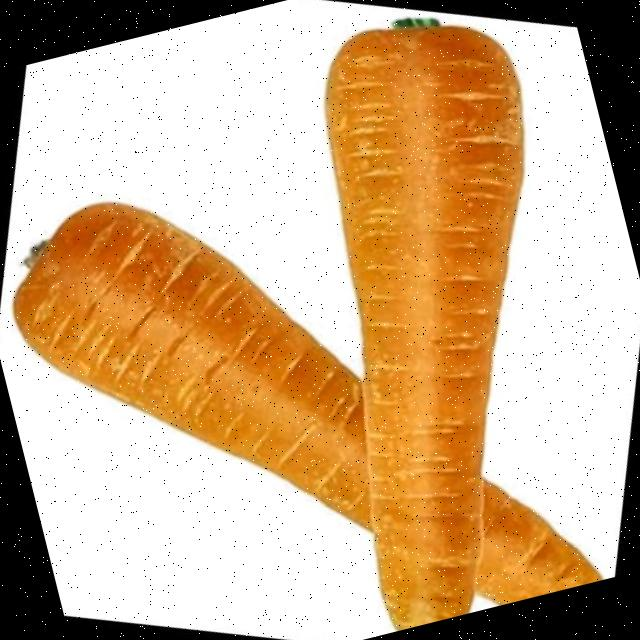carrot: (13, 202, 608, 605), (327, 25, 522, 630)
